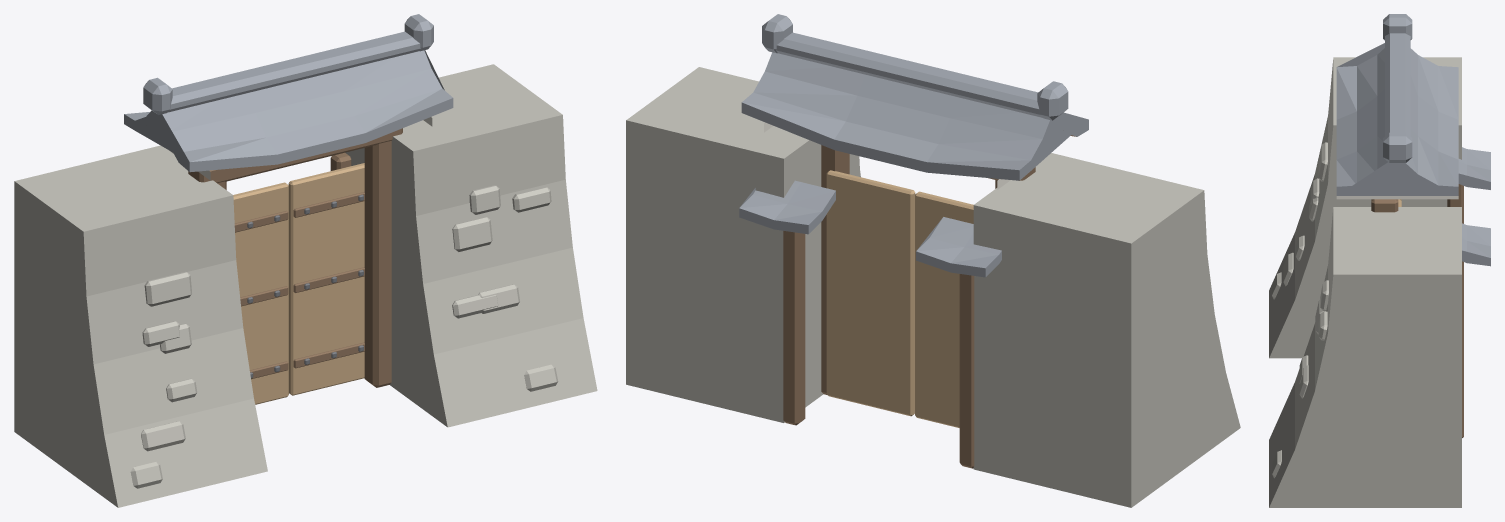
Rendered from feudal-japan-castle-town-stone-base-gateway-f36e3f0c__26566.glb.
The picture shows the model from 3 angles, left to right: view 1: azimuth 30°, elevation 25°; view 2: azimuth 150°, elevation 25°; view 3: azimuth 270°, elevation 25°; orthographic projection. The views are drawn at different scales.
Visible parts, largest first — view 1: stone-base-gateway, door-right (×2), door-left (×2); view 2: stone-base-gateway, door-right, door-left; view 3: stone-base-gateway.
Part boxes in pixels (<box>): stone-base-gateway: <box>14,14,597,507</box>; door-right (×2): <box>288,163,364,395</box>; door-left (×2): <box>233,182,288,404</box>; stone-base-gateway: <box>626,14,1240,507</box>; door-right: <box>826,170,915,416</box>; door-left: <box>915,191,973,427</box>; stone-base-gateway: <box>1269,14,1490,507</box>.
Bounding box in the file's own units: 8 × 5.56 × 3.45.
